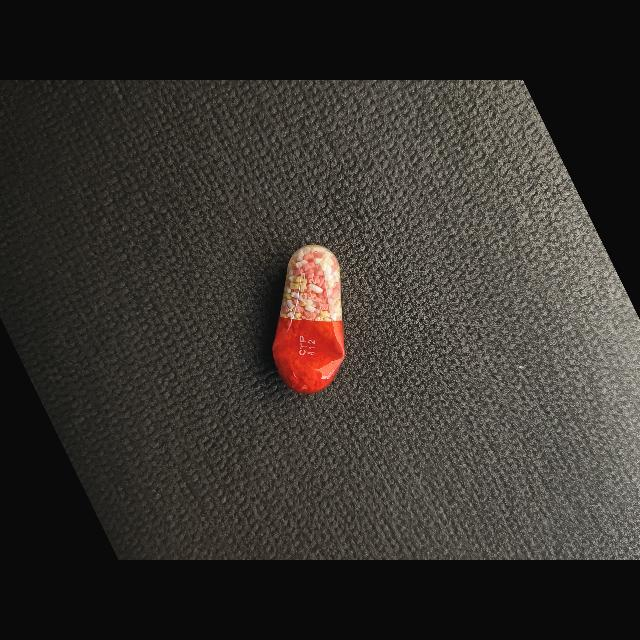Defective Capsule: (272, 245, 345, 394)
